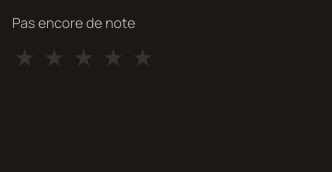
Scenario: StarRating › une erreur API affiche le message au lieu du succès
The image size is (332, 172).
Click the radio button named "3 étoiles" at (84, 57), box left=71, top=43, right=96, bottom=71
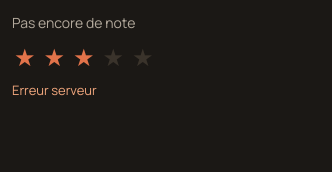
Expected: the text "Erreur serveur" is shown, left=12, top=81, right=97, bottom=99
